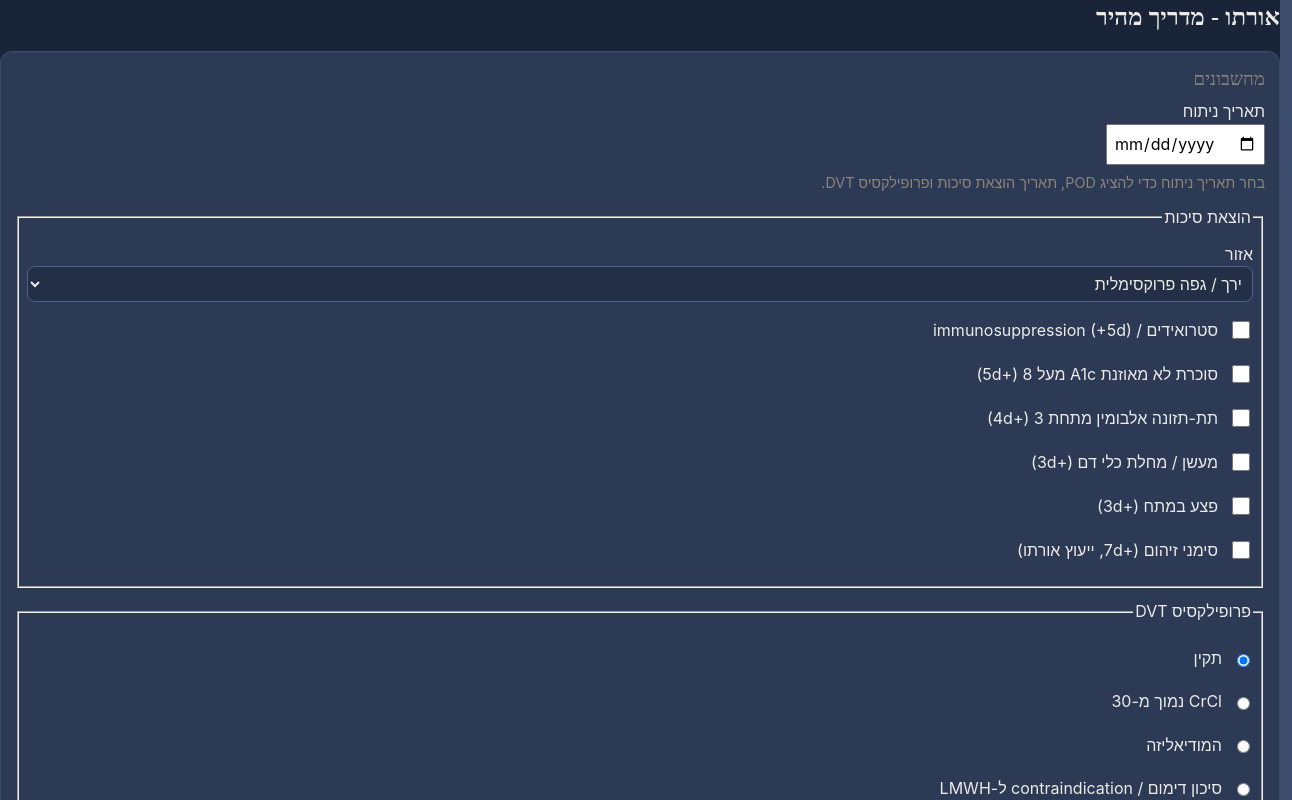
it: OrthoQuickref — POD calculator › shows POD: 17 when surgery date is 2026-04-23
In the date field labelled "תאריך ניתוח": (1186, 144) x1=1106 y1=124 x2=1265 y2=165, type "2026-04-23"
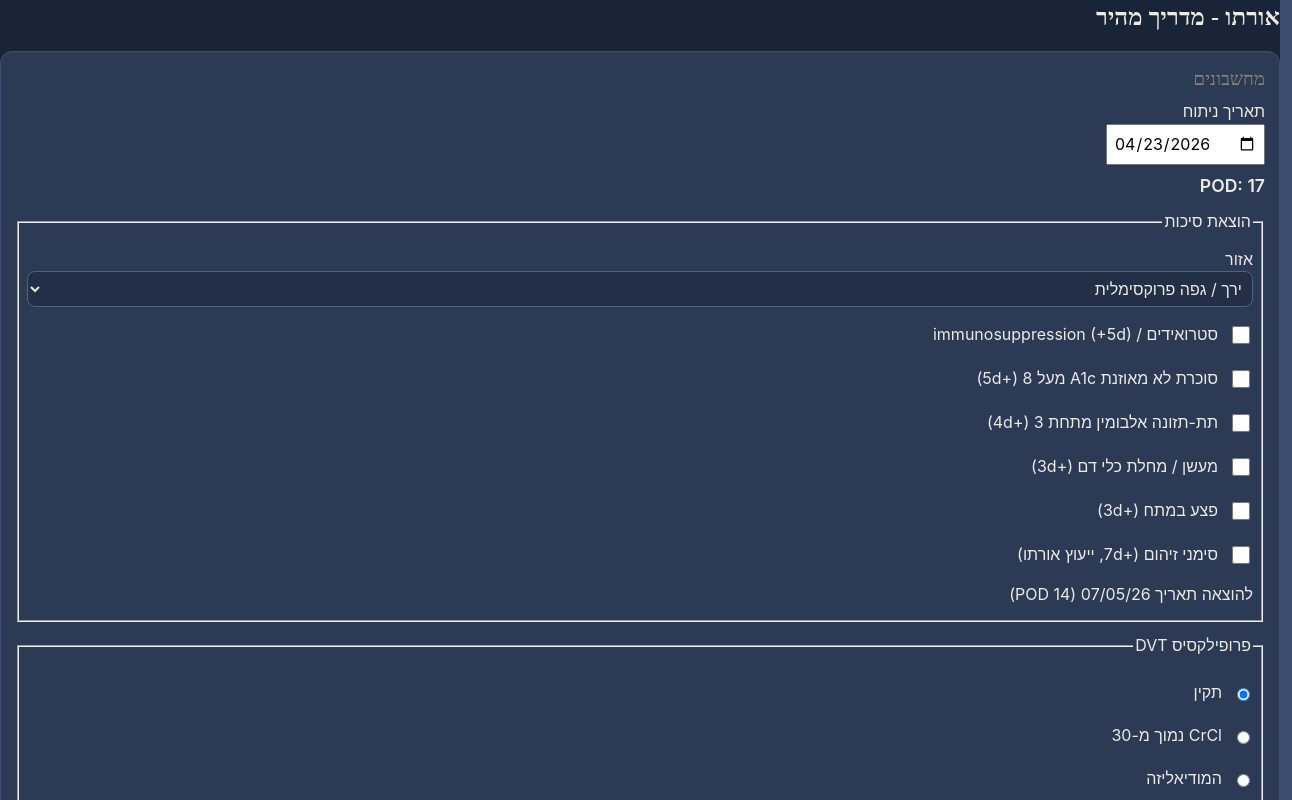
Check: the text "POD: 17" is shown, box x1=1200 y1=175 x2=1265 y2=196
